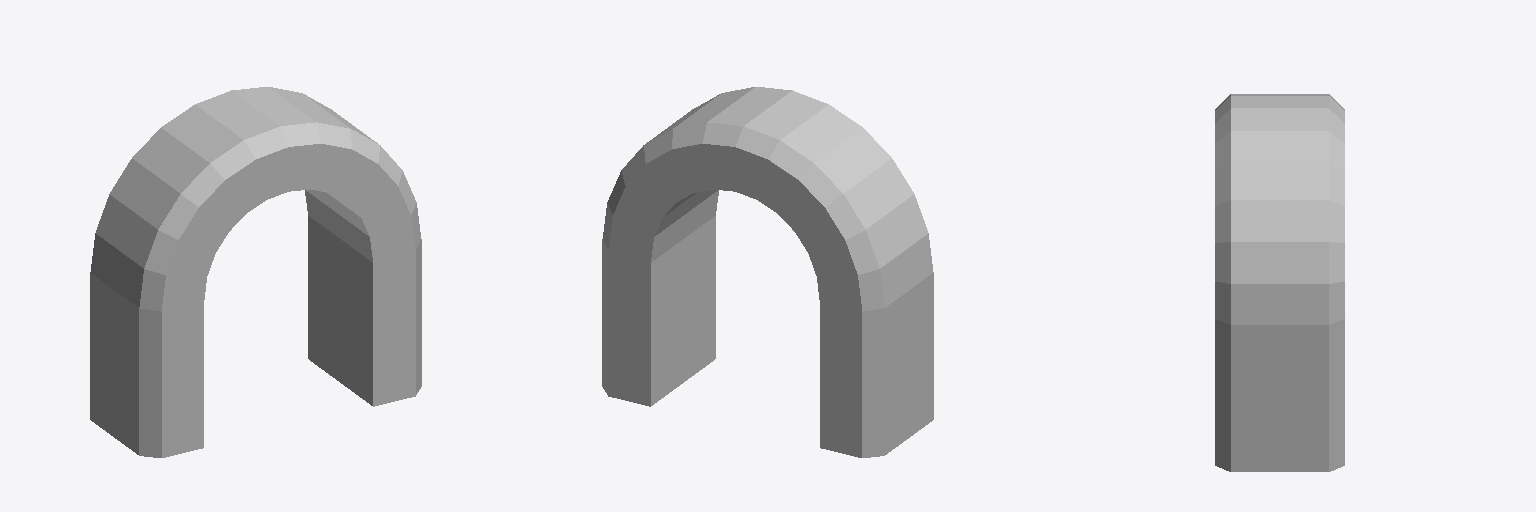
Rendered from doorLargeOpen.obj.
The picture shows the model from 3 angles: view 1: azimuth 30°, elevation 25°; view 2: azimuth 150°, elevation 25°; view 3: azimuth 270°, elevation 25°; orthographic projection.
Parts seen in each view (by area): view 1: doorLargeOpen; view 2: doorLargeOpen; view 3: doorLargeOpen.
Part boxes in pixels (x1,y1,x2,y2): doorLargeOpen: (90, 87, 421, 457); doorLargeOpen: (602, 87, 933, 457); doorLargeOpen: (1215, 94, 1344, 471).
Size of the model in its own units: 1 by 1 by 0.4.